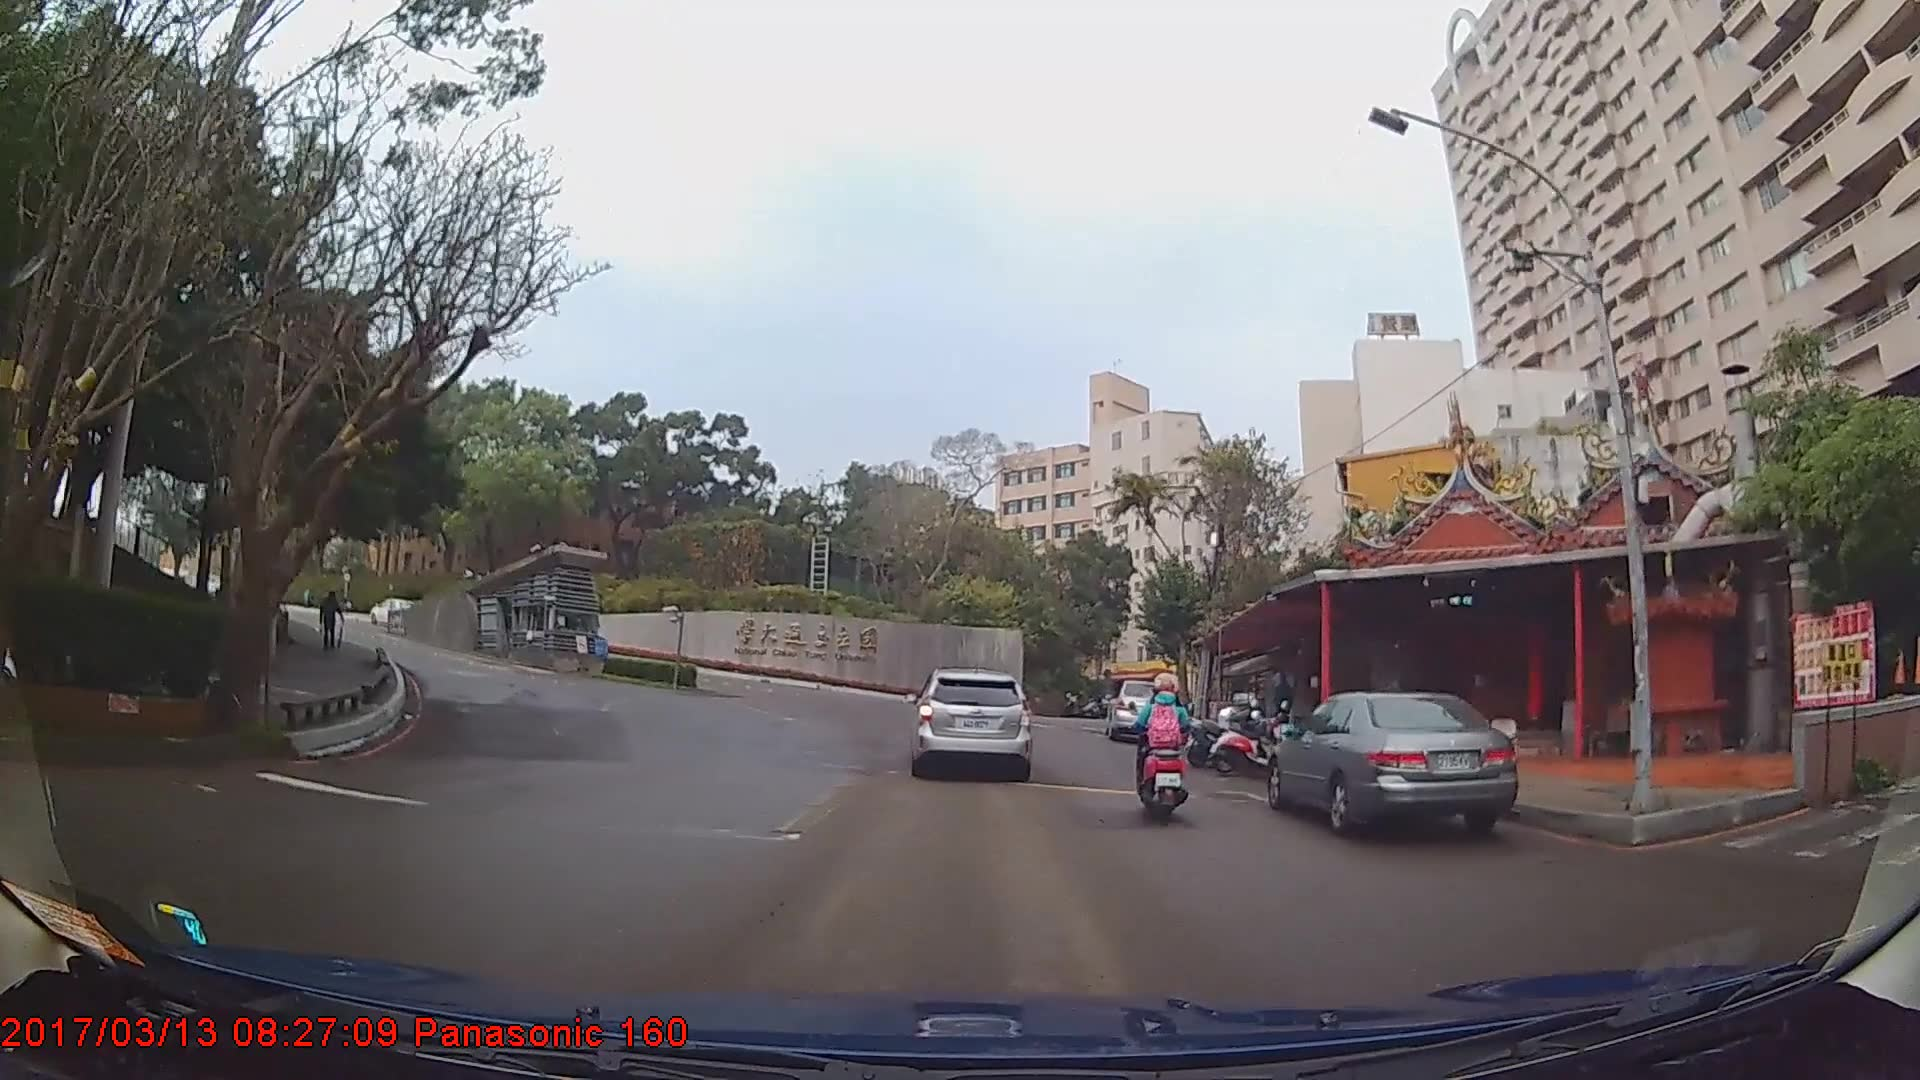pedestrian: (1271, 666, 1297, 733), (321, 592, 348, 652)
rider: (1131, 657, 1198, 812)
vehicle: (1267, 689, 1514, 830), (912, 667, 1030, 778), (1104, 677, 1173, 739), (367, 598, 422, 625)
